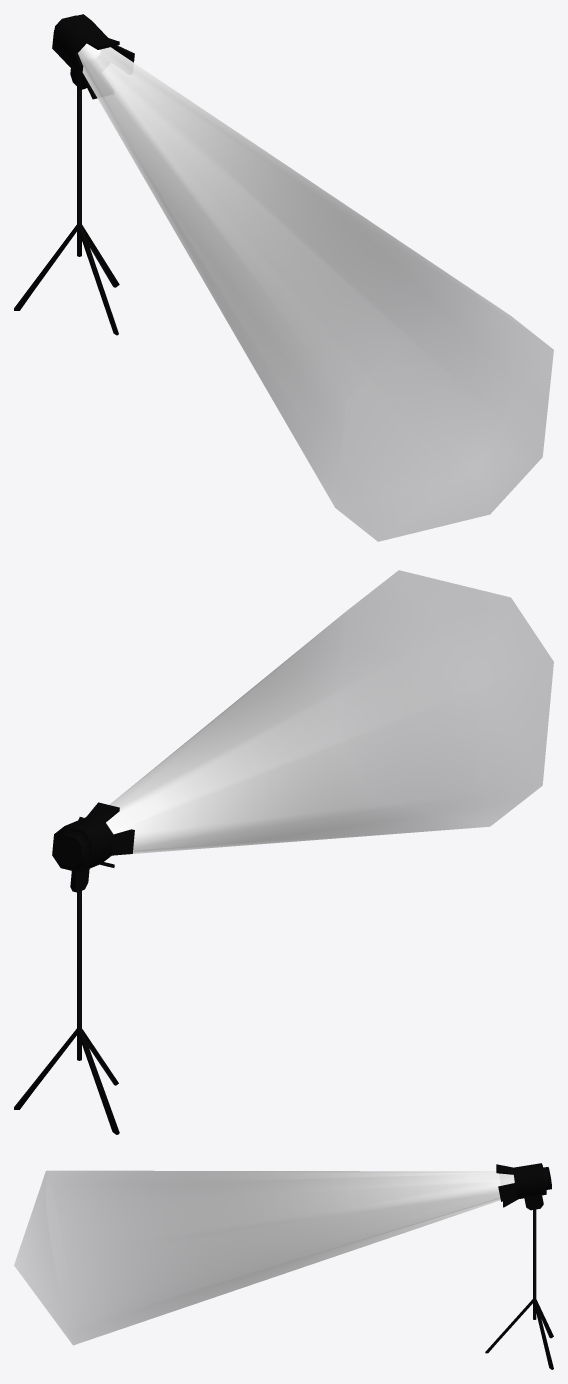
The model's file is 74cd7868-add5-4827-8979-c341542590ea.glb.
3 renders of one model, top to bottom at view 1: azimuth 30°, elevation 25°; view 2: azimuth 150°, elevation 25°; view 3: azimuth 270°, elevation 25°, orthographic. The views are drawn at different scales.
Visible parts, largest first — view 1: LightingStandOnWhite; view 2: LightingStandOnWhite; view 3: LightingStandOnWhite.
Part boxes in pixels (left/top/right/bottom): LightingStandOnWhite: left=14, top=14, right=553, bottom=541; LightingStandOnWhite: left=14, top=570, right=553, bottom=1134; LightingStandOnWhite: left=14, top=1163, right=553, bottom=1369.
Size of what is drawn, in the model's own units: 2.58 by 3.41 by 8.91.
Materials: 3 (3 with a texture image).
